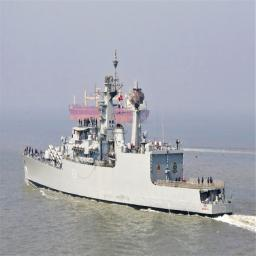Fragata: (21, 46, 236, 222)
